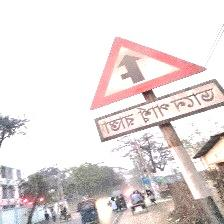Side-road-right: (90, 37, 224, 145)
